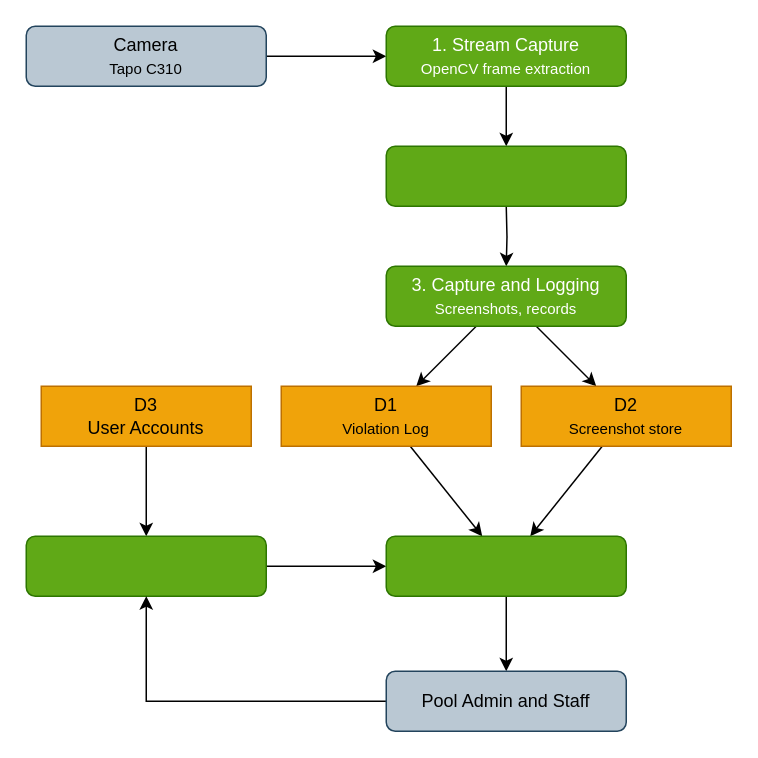
This 758x758 diagram has some shape labels left out. The box of each missing label's shape, as (x1, y1, x2, y2) in pixels:
2. Violation Detection YOLOv8 inference: (385, 145, 626, 206)
4. Dashboard Display Real-time alerts, logs: (385, 535, 626, 596)
5. User Login Role-based access: (25, 535, 266, 596)
